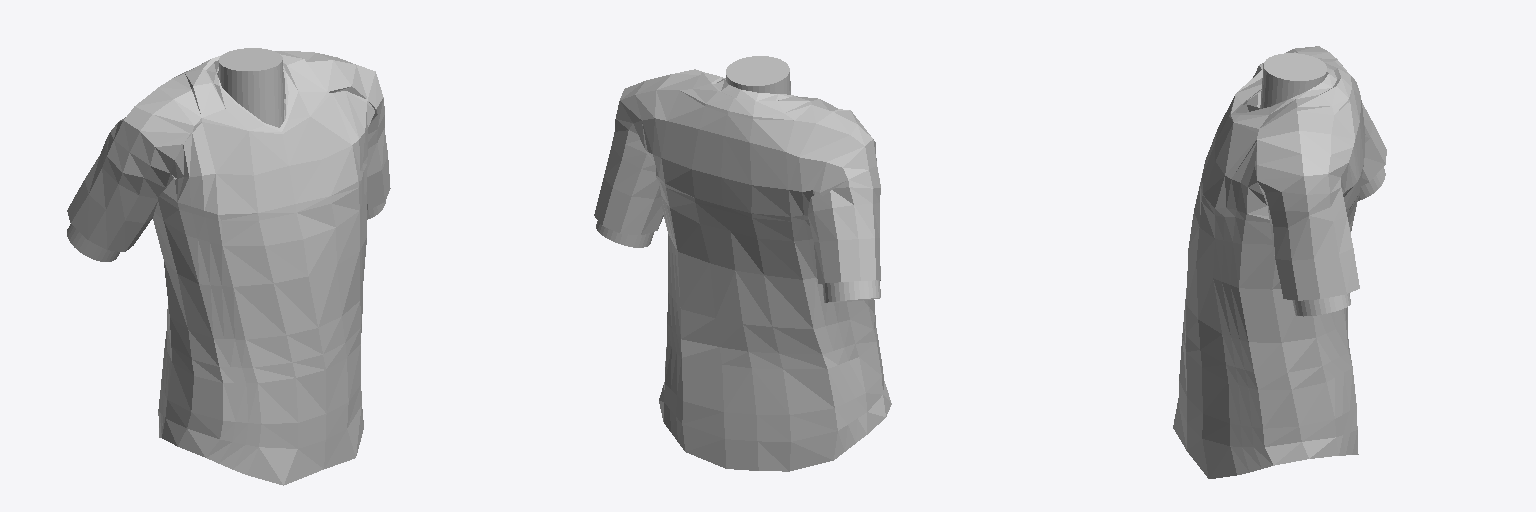
The model's file is nag.obj.
The picture shows the model from 3 angles: view 1: azimuth 30°, elevation 25°; view 2: azimuth 150°, elevation 25°; view 3: azimuth 270°, elevation 25°; orthographic projection.
Parts seen in each view (by area): view 1: male01_mesh1_002_mesh1_geometry_male_02_1noCullingID_male_02_1no, group3_group2_pasted__pCylinder1, group3_group2_pCylinder1; view 2: male01_mesh1_002_mesh1_geometry_male_02_1noCullingID_male_02_1no, group3_group2_pasted__pCylinder1, group3_group2_pCylinder1, group3_group2_pasted__pasted__pCylinder1; view 3: male01_mesh1_002_mesh1_geometry_male_02_1noCullingID_male_02_1no, group3_group2_pasted__pCylinder1, group3_group2_pasted__pasted__pCylinder1.
Part boxes in pixels (x1,y1,x2,y2): male01_mesh1_002_mesh1_geometry_male_02_1noCullingID_male_02_1no: (67, 51, 390, 485); group3_group2_pasted__pCylinder1: (219, 48, 283, 127); group3_group2_pCylinder1: (67, 224, 119, 261); male01_mesh1_002_mesh1_geometry_male_02_1noCullingID_male_02_1no: (594, 69, 891, 471); group3_group2_pasted__pCylinder1: (726, 56, 790, 94); group3_group2_pCylinder1: (822, 280, 880, 302); group3_group2_pasted__pasted__pCylinder1: (596, 221, 653, 247); male01_mesh1_002_mesh1_geometry_male_02_1noCullingID_male_02_1no: (1173, 46, 1386, 478); group3_group2_pasted__pCylinder1: (1260, 53, 1326, 108); group3_group2_pasted__pasted__pCylinder1: (1292, 293, 1350, 316).
Bounding box in the file's own units: 43.75 × 54.35 × 27.47.